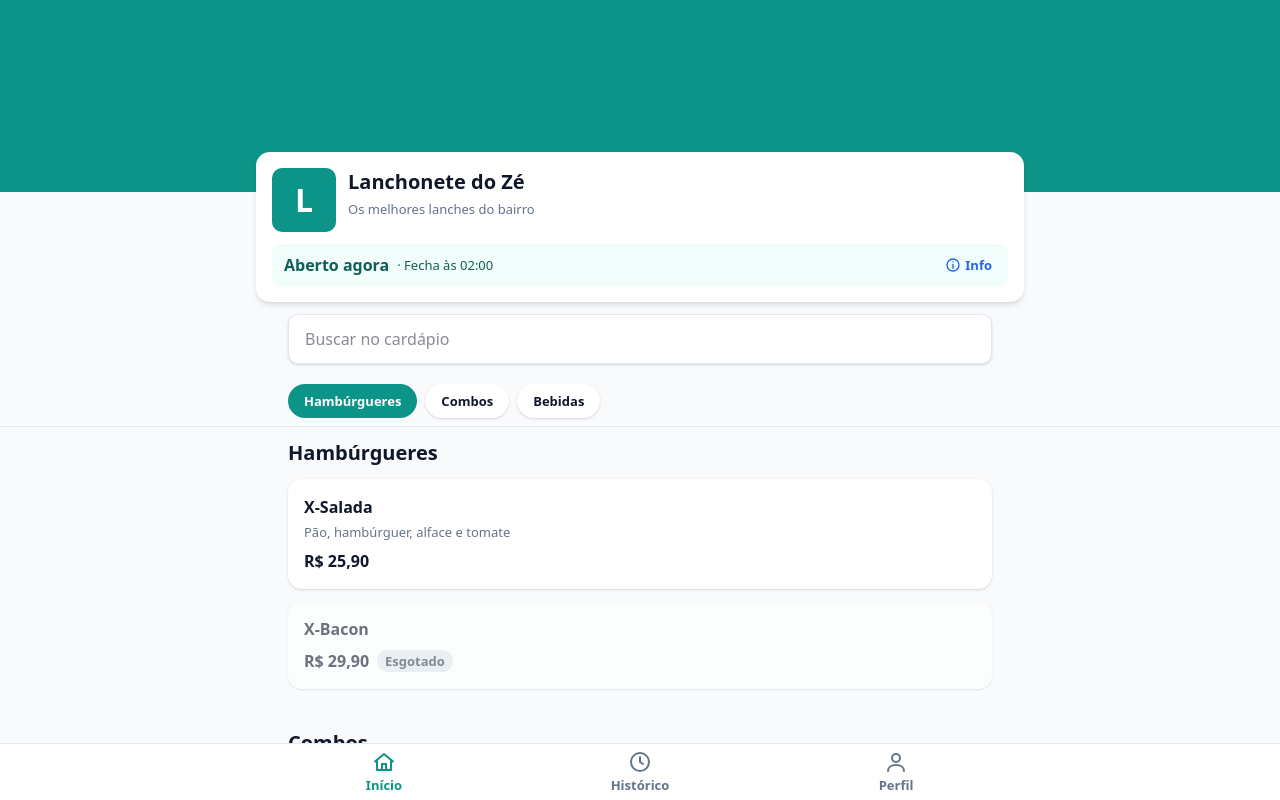
Test: escolher o produto › grupo obrigatório sem escolha impede adicionar e diz o que falta
Expected: the heading "Lanchonete do Zé" is shown, [348,168,535,196]
Click the button "X-Salada": (338, 507) [304,495,373,519]
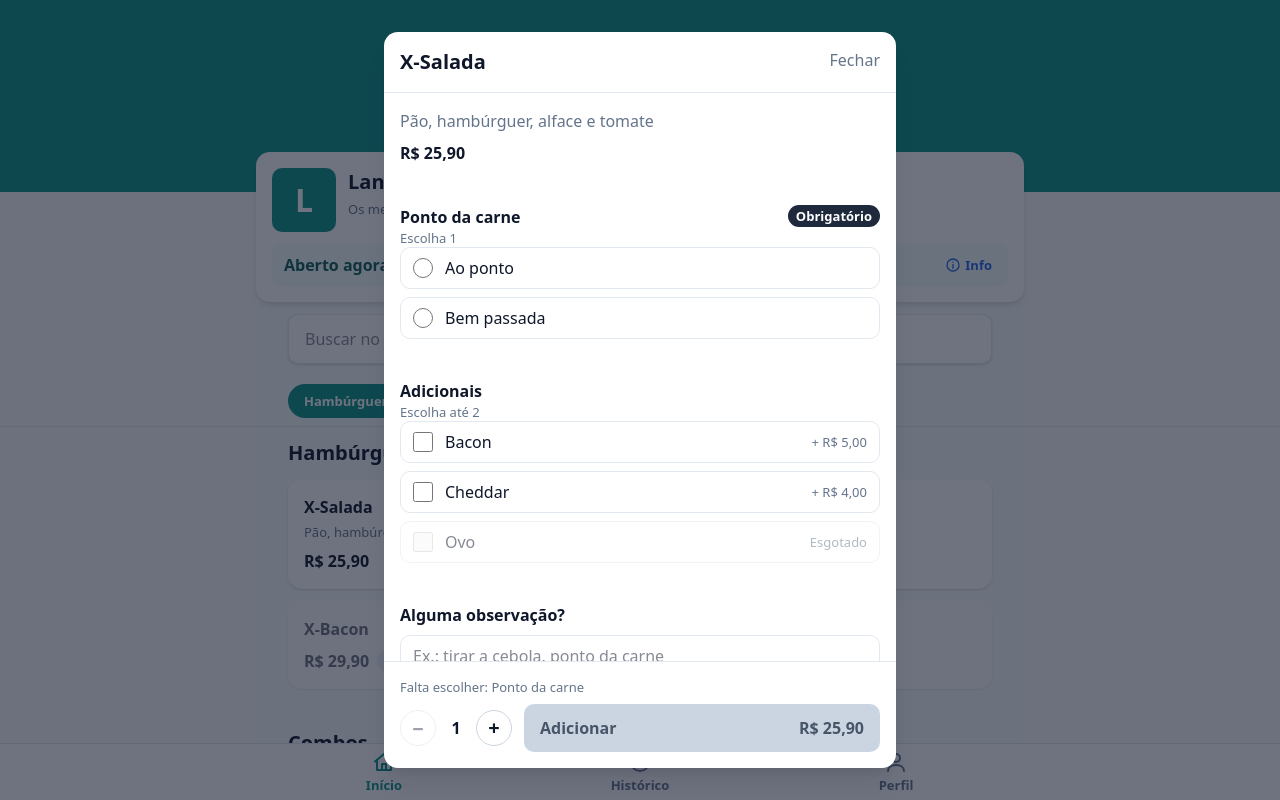
Result: the button "Adicionar R$ 25,90" is disabled at [524,704,880,752]
Result: the text "Falta escolher: Ponto da carne" is shown at [400,678,584,696]
Result: the text "Obrigatório" is shown at [788,205,880,227]
Click the radio button labelled "Bem passada": (423, 318) [413,308,433,328]
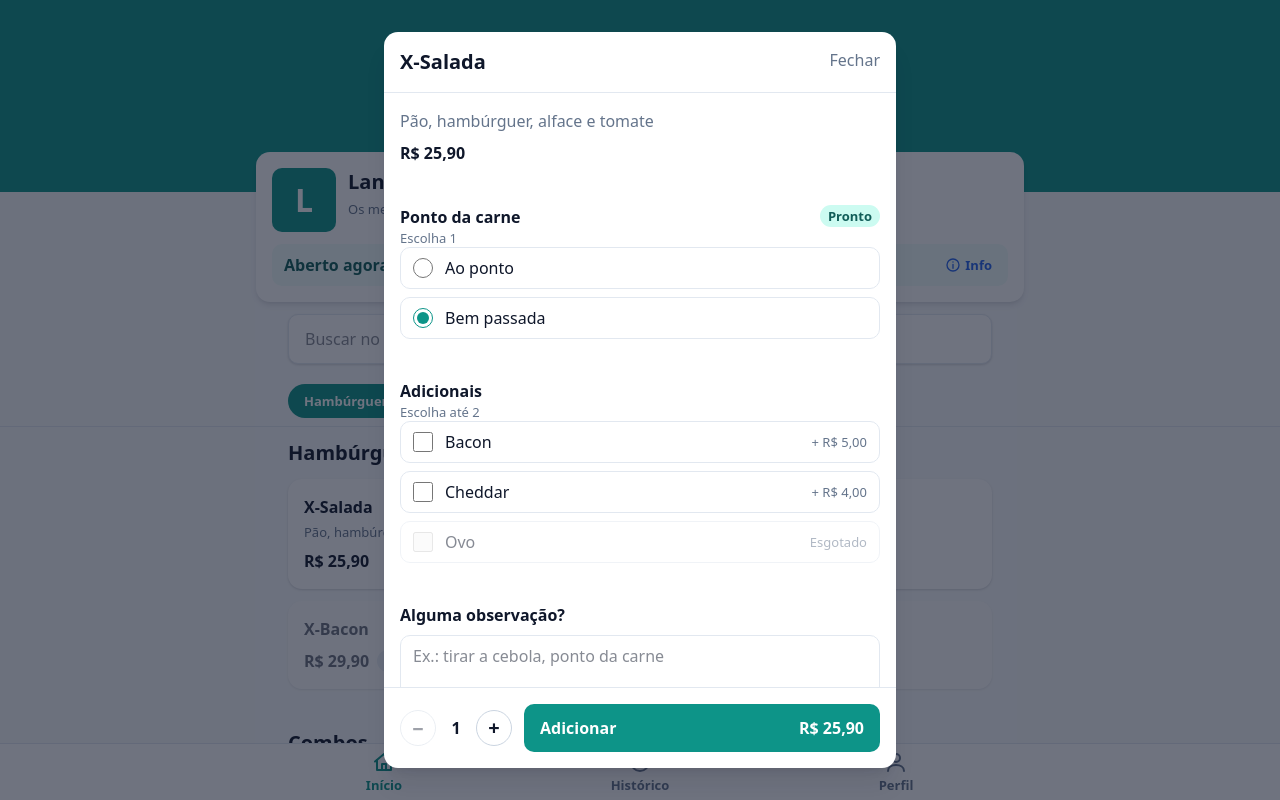
Result: the button "Adicionar R$ 25,90" is enabled at [524,704,880,752]
Result: the text "Pronto" is shown at [820,205,880,227]
